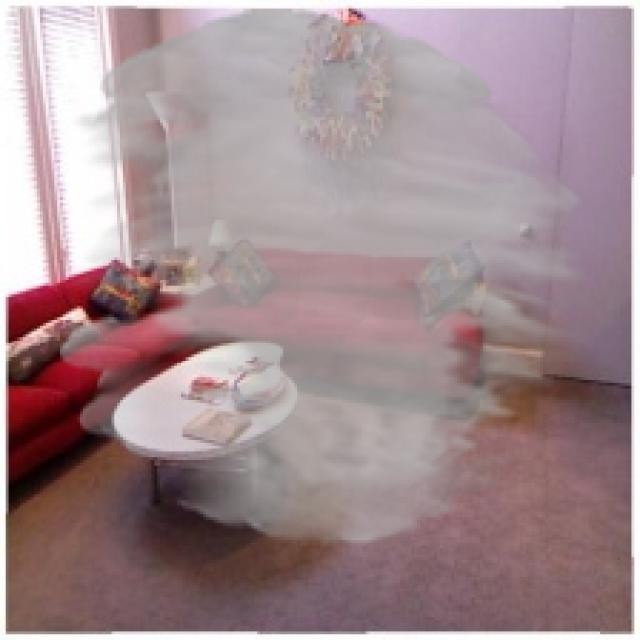Smoke: (60, 8, 589, 546)
